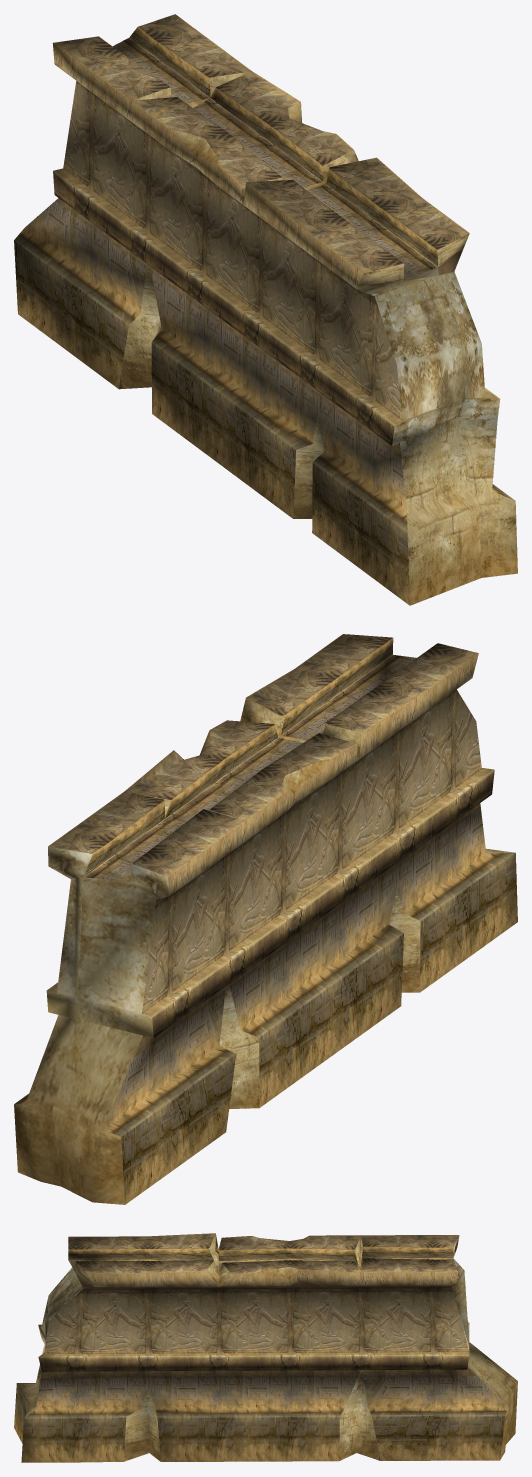
Rendered from S_Build_Desert003.FBX.
3 views of the same model, one above another, from view 1: azimuth 30°, elevation 25°; view 2: azimuth 150°, elevation 25°; view 3: azimuth 270°, elevation 25° (orthographic). The views are drawn at different scales.
Visible parts, largest first — view 1: S_Build_Desert003; view 2: S_Build_Desert003; view 3: S_Build_Desert003.
Part boxes in pixels (box(x1,y1,x2,y2)): S_Build_Desert003: box(14, 14, 517, 605); S_Build_Desert003: box(14, 634, 517, 1204); S_Build_Desert003: box(14, 1233, 517, 1462).
Size of the model in its own units: 263 by 1478 by 630.
Materials: 2 (2 with a texture image).
